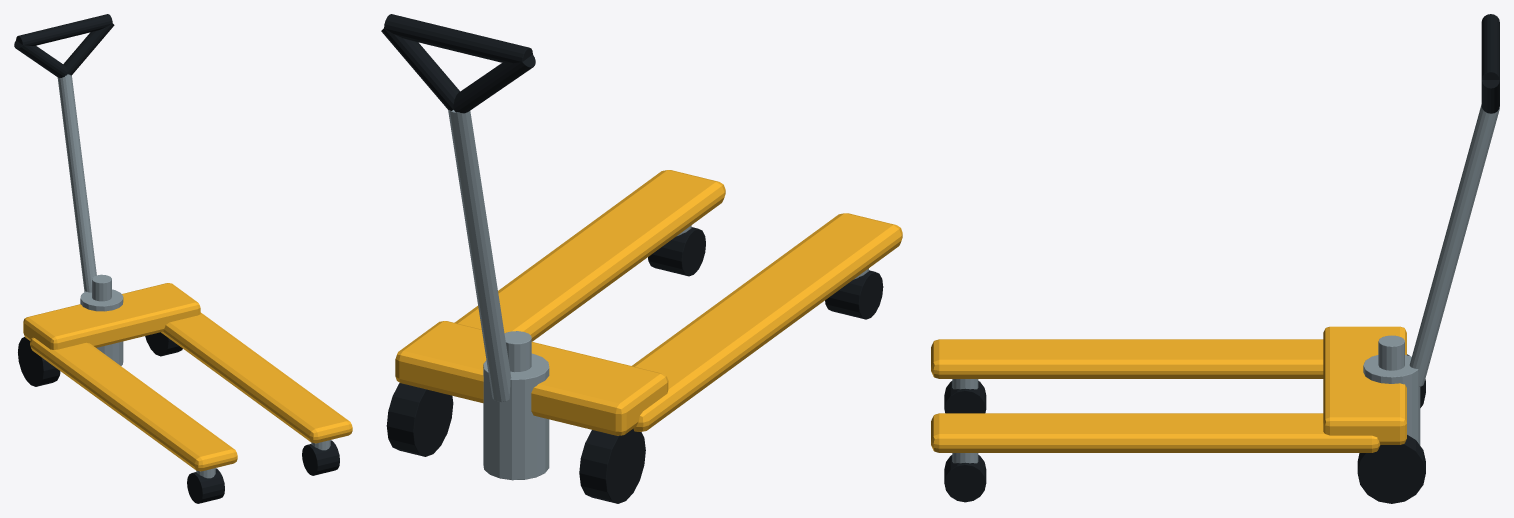
Rendered from edited.glb.
3 views of the same model, side by side, from view 1: azimuth 30°, elevation 25°; view 2: azimuth 150°, elevation 25°; view 3: azimuth 270°, elevation 25° (orthographic). The views are drawn at different scales.
Visible parts, largest first — view 1: FORK, FORK.001, CROSS_Head, HANDLE_Stem, HANDLE_GripTop, REAR_Wheel, PUMP_Body, LOAD_Roller, LOAD_Roller.001, HANDLE_Side.001, HANDLE_Side, REAR_Wheel.001 (+1 smaller); view 2: FORK, FORK.001, CROSS_Head, HANDLE_Stem, PUMP_Body, REAR_Wheel, REAR_Wheel.001, HANDLE_GripTop, HANDLE_Side.001, LOAD_Roller, LOAD_Roller.001, HANDLE_Side (+1 smaller); view 3: FORK.001, FORK, CROSS_Head, HANDLE_Stem, REAR_Wheel.001, PUMP_Body, LOAD_Roller.001, HANDLE_GripTop, LOAD_Roller, PISTON.
Boxes of the visible parts, left/top/right/bottom form: FORK: left=30, top=337, right=237, bottom=471; FORK.001: left=161, top=312, right=352, bottom=443; CROSS_Head: left=23, top=283, right=200, bottom=349; HANDLE_Stem: left=57, top=74, right=96, bottom=292; HANDLE_GripTop: left=16, top=14, right=112, bottom=45; REAR_Wheel: left=18, top=337, right=60, bottom=386; PUMP_Body: left=80, top=289, right=123, bottom=365; LOAD_Roller: left=187, top=468, right=224, bottom=503; LOAD_Roller.001: left=302, top=440, right=339, bottom=475; HANDLE_Side.001: left=63, top=23, right=114, bottom=75; HANDLE_Side: left=14, top=40, right=67, bottom=77; REAR_Wheel.001: left=145, top=332, right=182, bottom=356; FORK: left=632, top=213, right=902, bottom=431; FORK.001: left=454, top=170, right=725, bottom=341; CROSS_Head: left=395, top=321, right=668, bottom=435; HANDLE_Stem: left=448, top=110, right=511, bottom=402; PUMP_Body: left=483, top=353, right=549, bottom=480; REAR_Wheel: left=579, top=428, right=645, bottom=503; REAR_Wheel.001: left=386, top=383, right=453, bottom=456; HANDLE_GripTop: left=384, top=14, right=532, bottom=63; HANDLE_Side.001: left=381, top=28, right=459, bottom=110; LOAD_Roller: left=825, top=270, right=883, bottom=319; LOAD_Roller.001: left=648, top=227, right=705, bottom=276; HANDLE_Side: left=453, top=54, right=535, bottom=113; FORK.001: left=931, top=413, right=1380, bottom=452; FORK: left=931, top=339, right=1323, bottom=378; CROSS_Head: left=1323, top=326, right=1406, bottom=444; HANDLE_Stem: left=1409, top=104, right=1499, bottom=386; REAR_Wheel.001: left=1357, top=435, right=1425, bottom=503; PUMP_Body: left=1363, top=355, right=1420, bottom=445; LOAD_Roller.001: left=944, top=455, right=986, bottom=502; HANDLE_GripTop: left=1481, top=14, right=1499, bottom=79; LOAD_Roller: left=944, top=381, right=986, bottom=413; PISTON: left=1378, top=335, right=1404, bottom=370.
Size of the model in its own units: 0.63 by 1.2 by 1.49.
